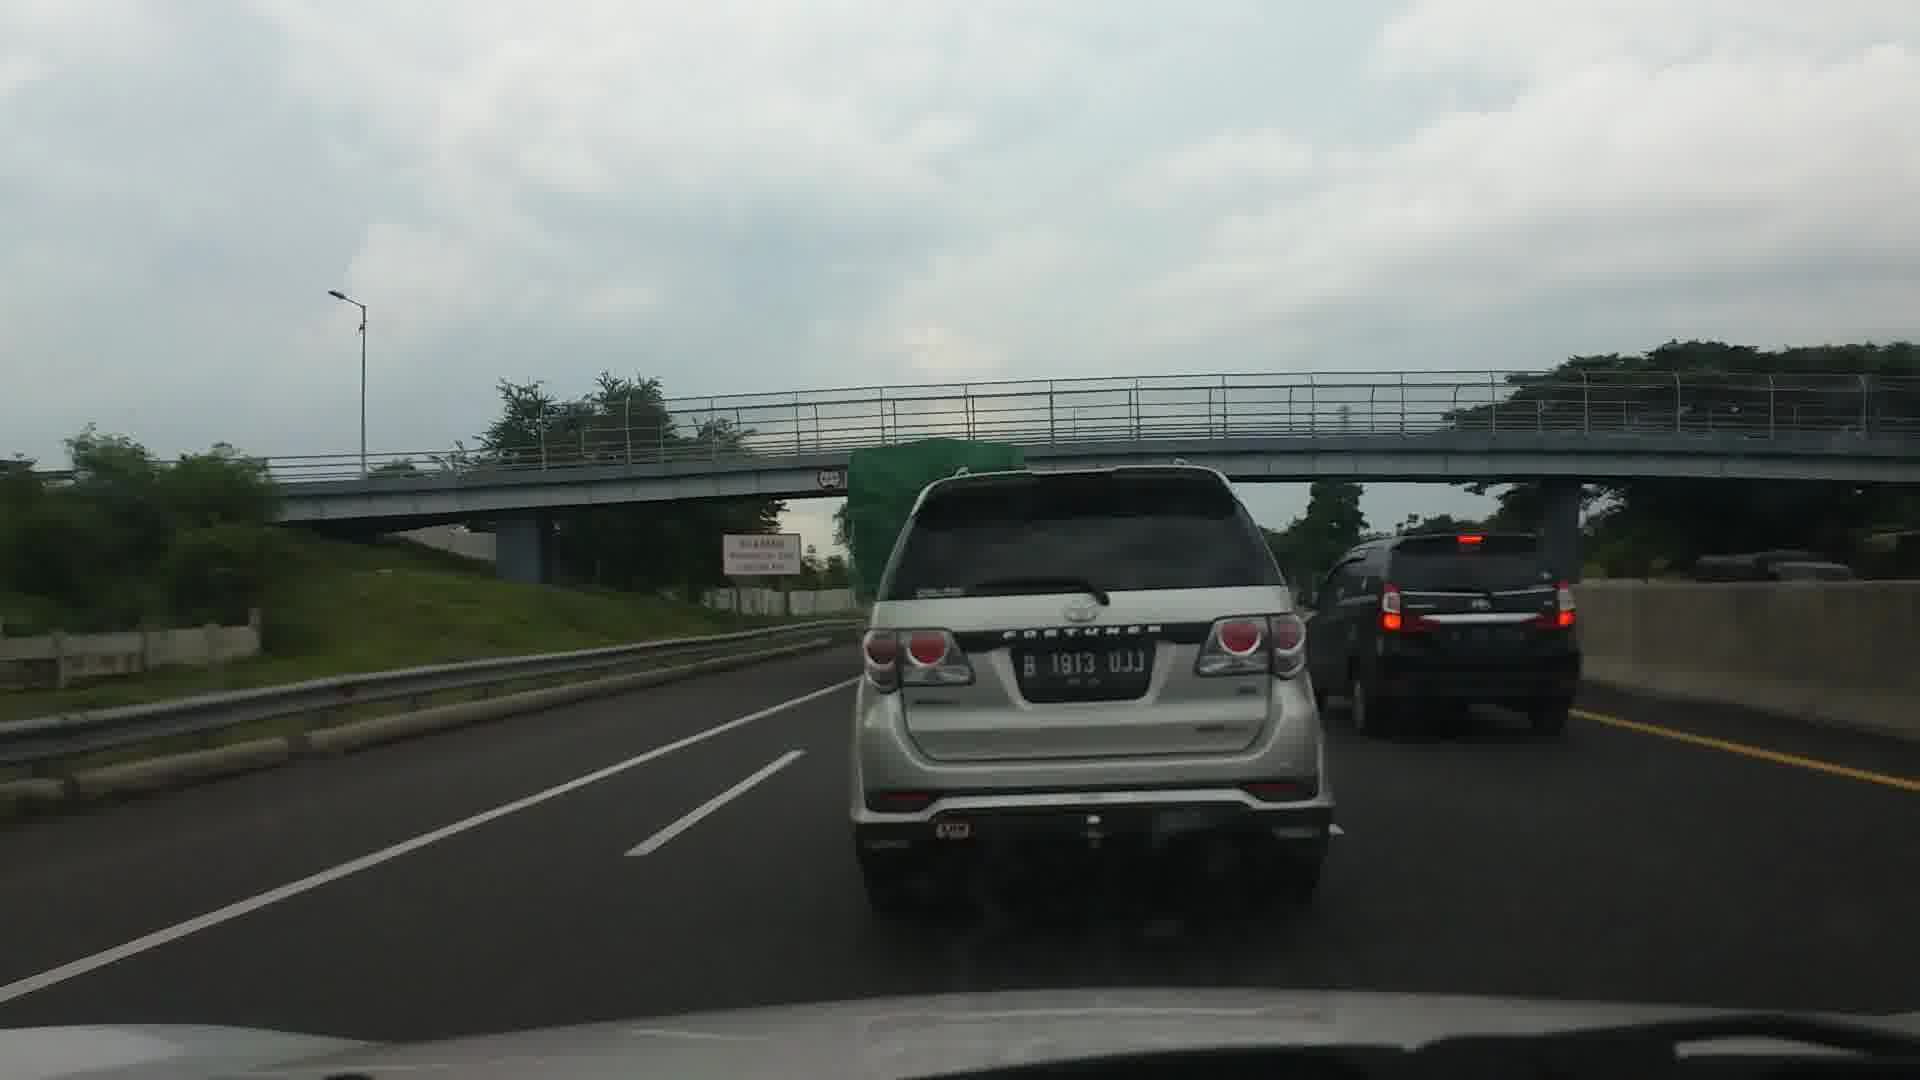plate_positive: (1021, 645, 1149, 688)
